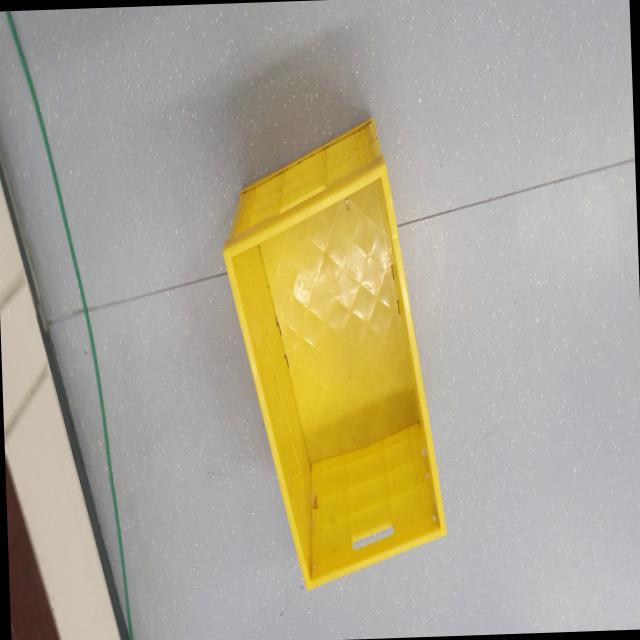box: (214, 82, 461, 596)
